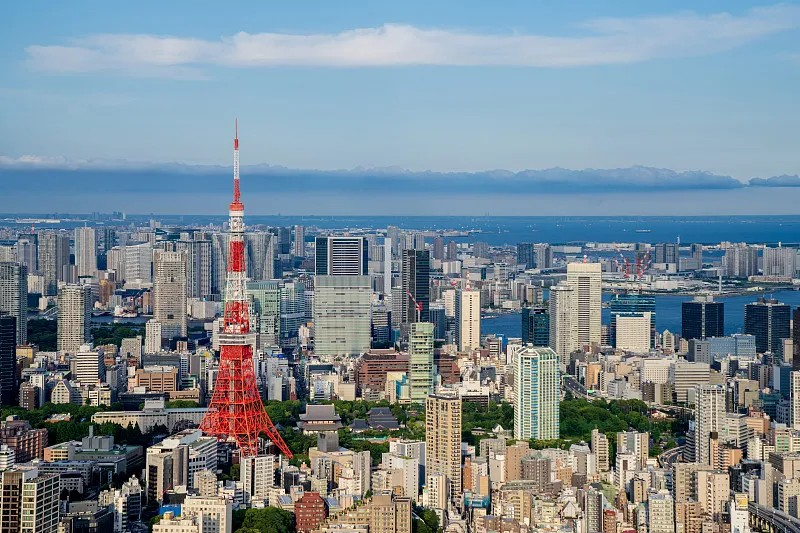Tokyo: (195, 115, 292, 462)
